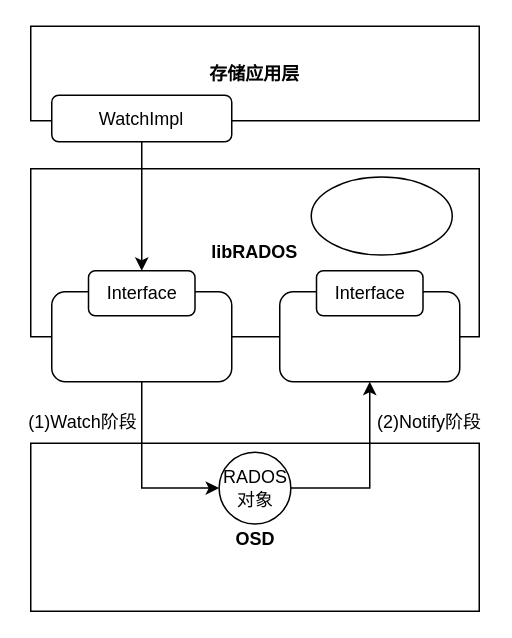
Some shapes in this 512 by 638 pixel diagram are drawn without their labels. Here are the shapes that lost their labels. From the top down, the box of each, then its label:
(310, 176, 452, 255): 定时器线程 Objecter::tick
(50, 290, 232, 382): Watch
(278, 290, 460, 382): Notify
